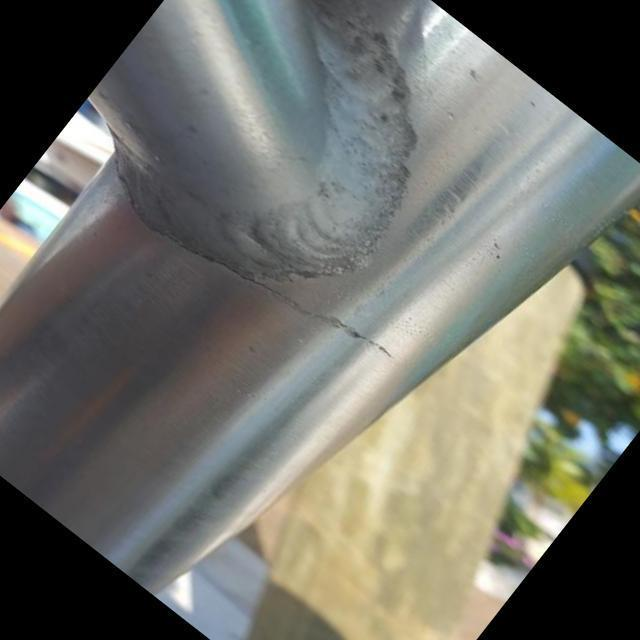defect: (104, 155, 402, 368)
